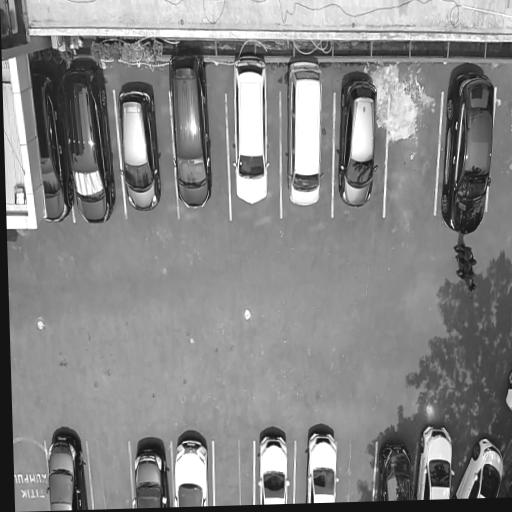Car: (438, 67, 499, 239), (66, 55, 114, 222), (279, 54, 330, 204), (165, 50, 213, 204), (332, 70, 380, 208), (228, 53, 271, 205), (29, 59, 67, 224), (113, 80, 158, 212), (456, 430, 510, 499), (46, 429, 83, 511), (171, 428, 209, 506), (418, 418, 453, 500), (302, 423, 338, 501), (254, 427, 290, 504), (128, 440, 167, 506), (375, 431, 410, 501), (502, 341, 512, 424)
Space Available: (382, 94, 439, 219), (87, 428, 130, 510), (211, 429, 256, 505), (339, 408, 375, 501), (13, 430, 47, 511)
